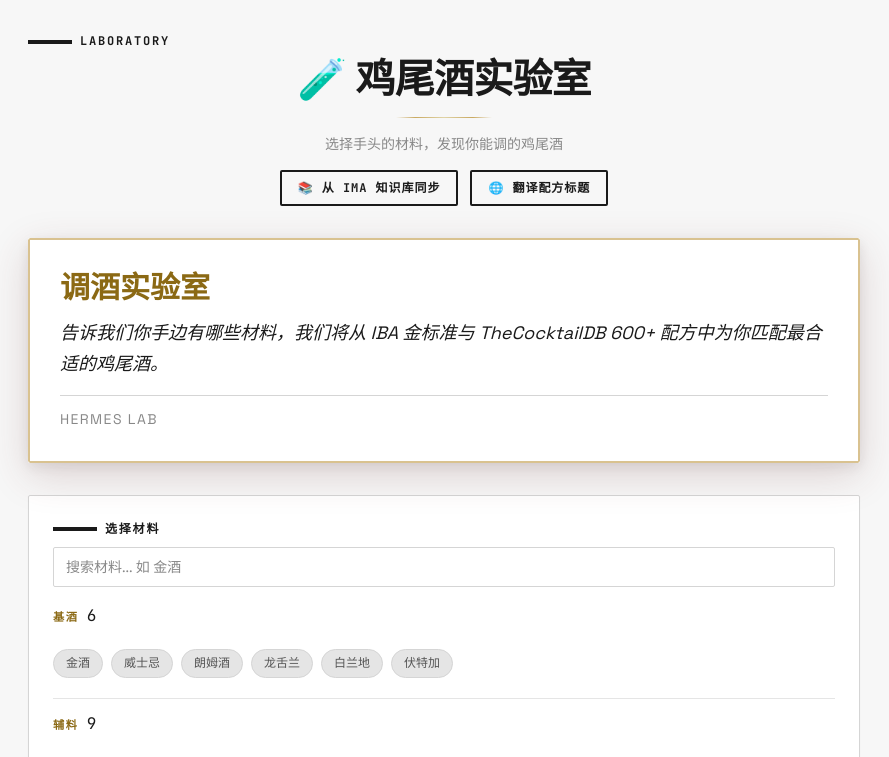
Scenario: LabPanel › 清空按钮：清空已选材料与结果
Step 1. Click the button "金酒" → [78, 664], box [53,649,103,678]
(page scrolled)
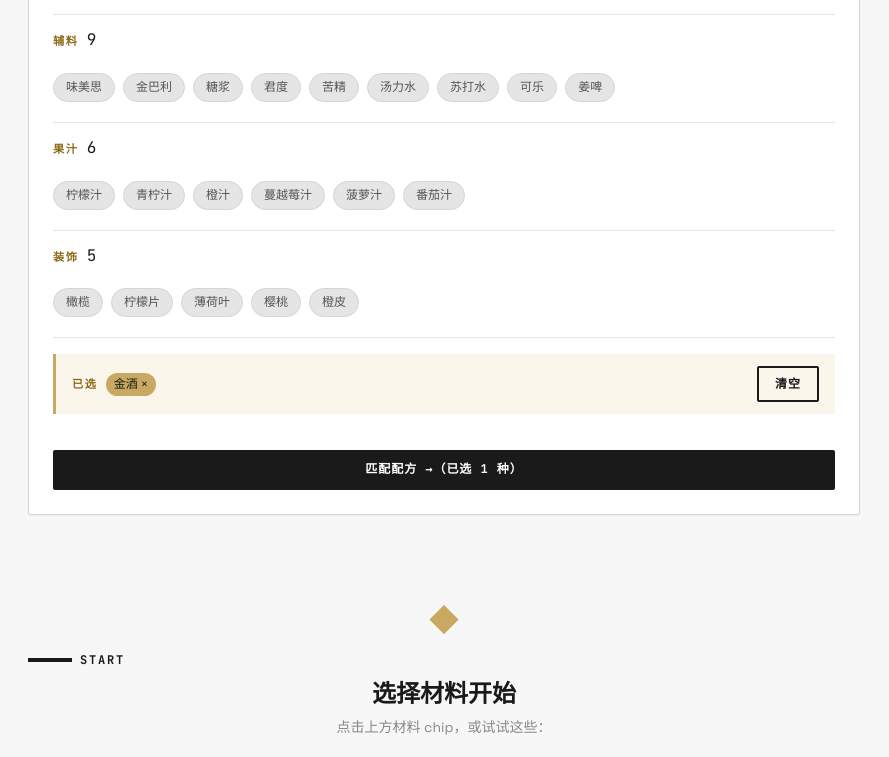
Now the button "匹配配方 →（已选 1 种）" is shown, box [53,450,835,490]
Step 2. Click the button "清空" → [788, 384], box [757,366,819,402]
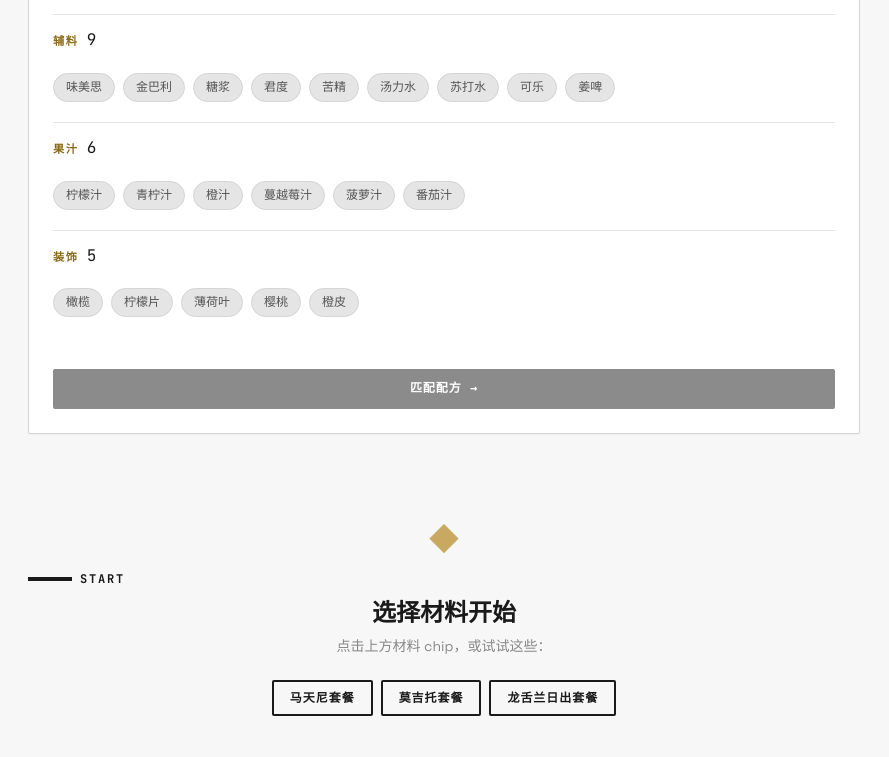
Now the text "已选" is gone
Now the button "匹配配方 →" is disabled, box [53,370,835,409]
